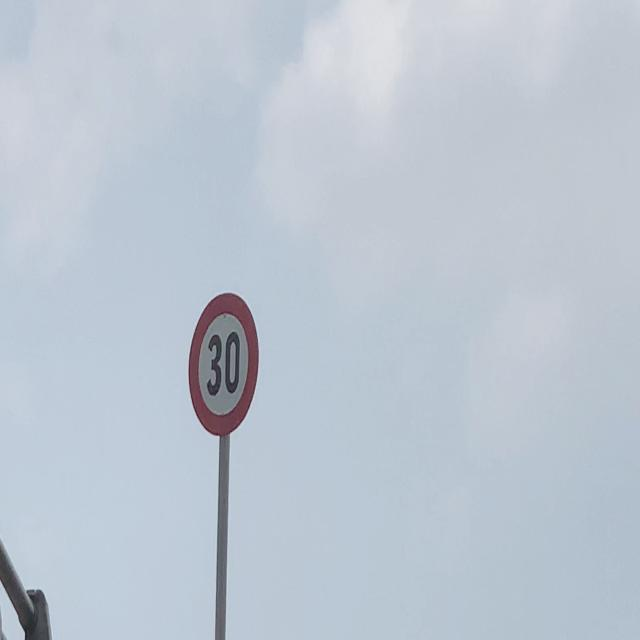Toc do toi da: (187, 290, 260, 438)
